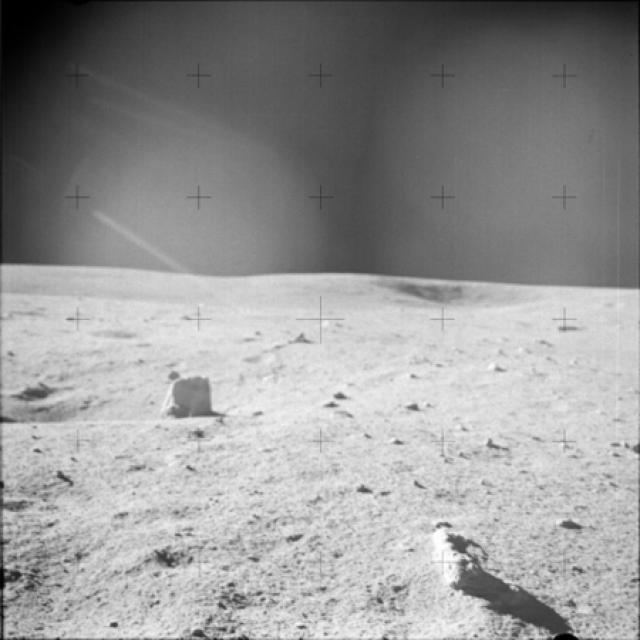crater: (377, 270, 553, 321), (86, 319, 148, 356)
rock: (416, 524, 489, 590), (160, 360, 228, 430)
